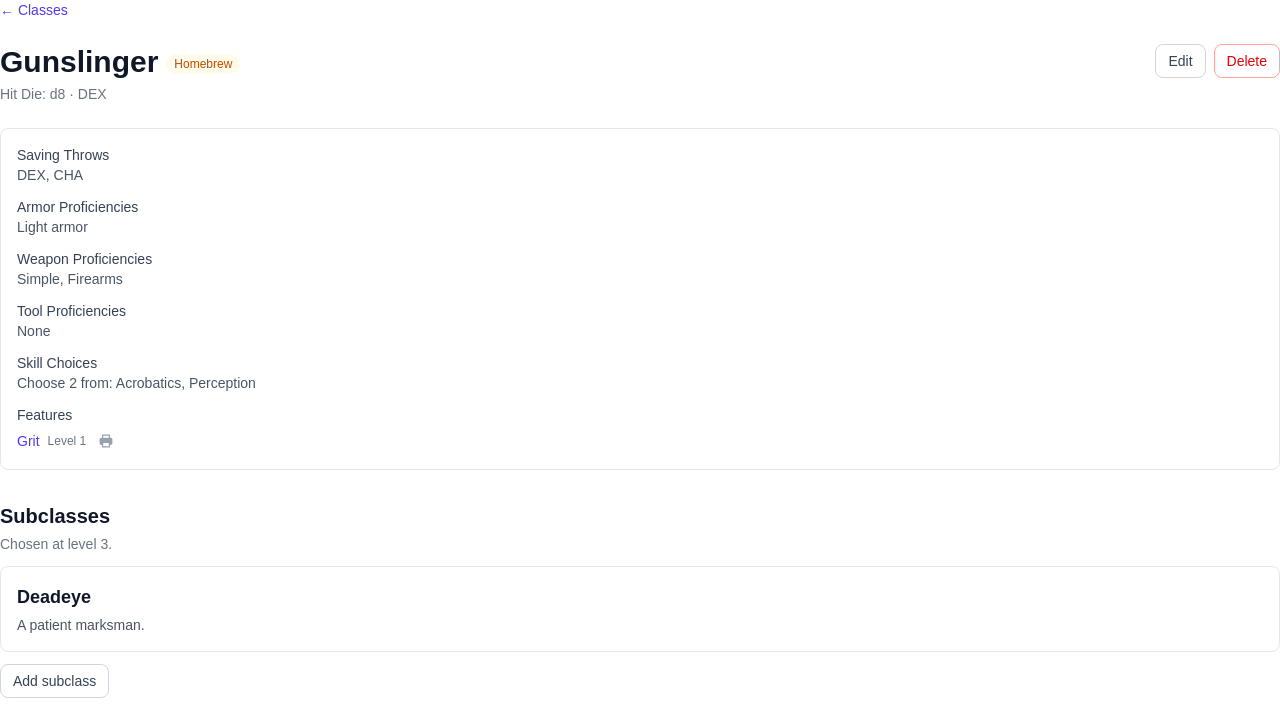
Test case: ClassDetailPage › manage controls › deletes after confirmation, stops reading the class, and leaves before refreshing the list
Click the button "Delete" at (1247, 61), box [1214,44,1279,78]
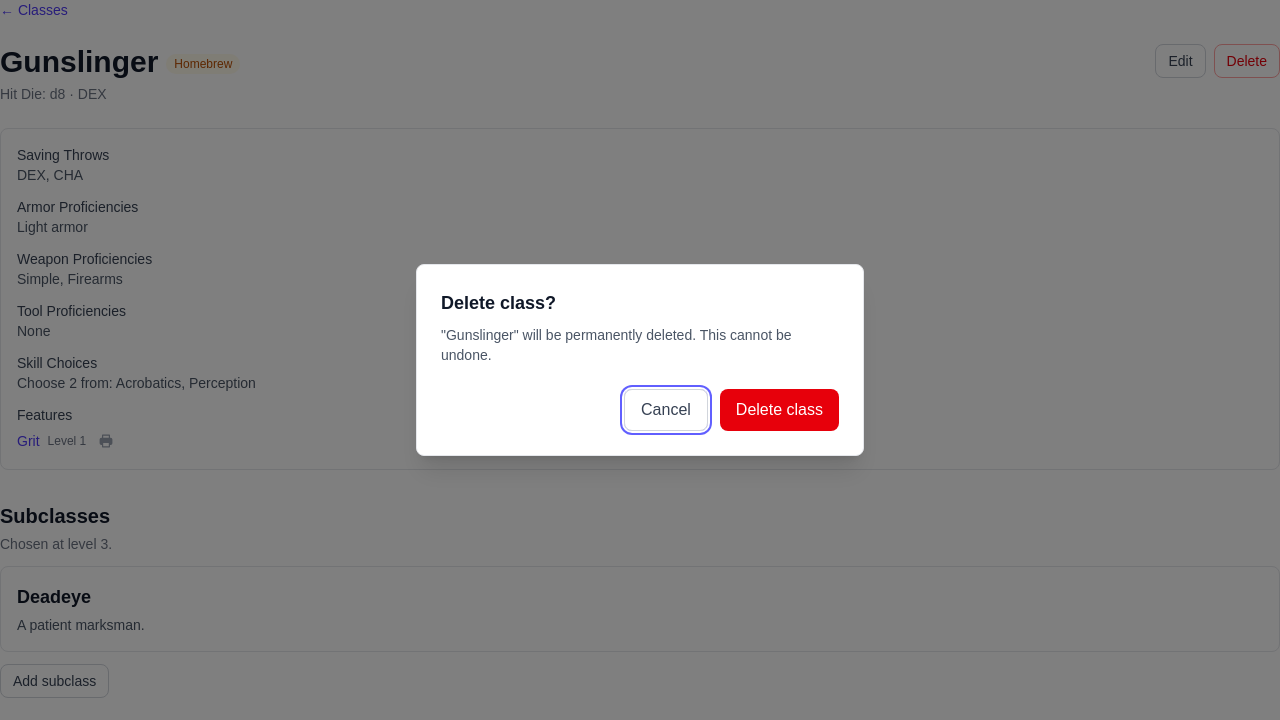
expect the heading "Delete class?" is shown: met, box [441,293,556,313]
expect the text "\"Gunslinger\" will be permanently deleted. This cannot be undone." is shown: met, box [441,325,839,365]
Click the button "Delete class" at (779, 410), box [720,389,839,431]
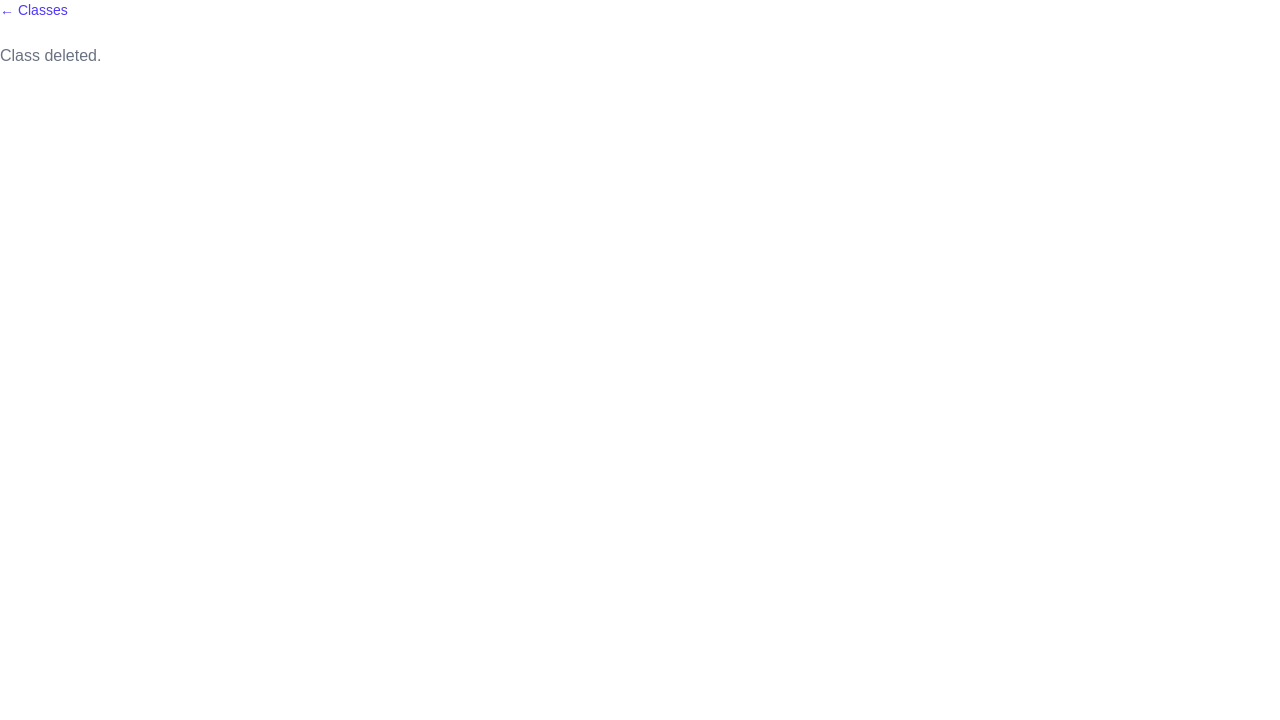
expect the text "Class deleted." is shown: met, box [0,47,101,64]
expect the heading "Gunslinger Homebrew" is gone: met
